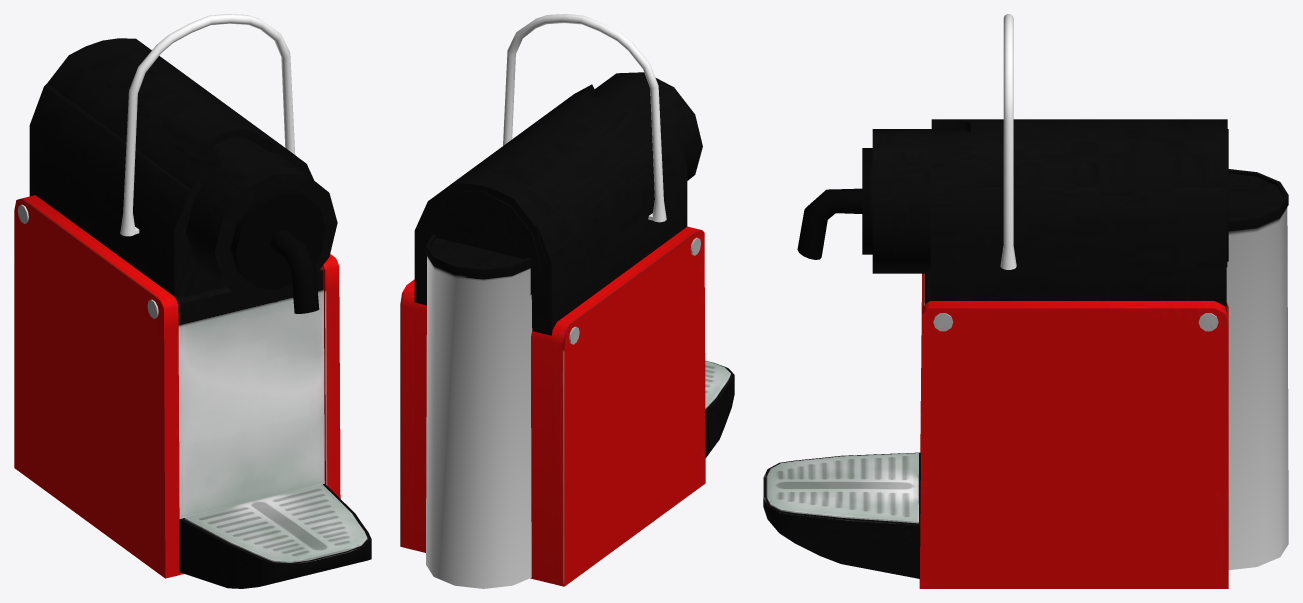
Rendered from LR_CoffeeMachine.fbx.
The picture shows the model from 3 angles, left to right: view 1: azimuth 30°, elevation 25°; view 2: azimuth 150°, elevation 25°; view 3: azimuth 270°, elevation 25°; orthographic projection. The views are drawn at different scales.
Visible parts, largest first — view 1: CoffeeMachine; view 2: CoffeeMachine; view 3: CoffeeMachine.
Part boxes in pixels (x1,y1,x2,y2): CoffeeMachine: (14, 14, 371, 588); CoffeeMachine: (400, 14, 734, 588); CoffeeMachine: (763, 14, 1288, 588).
Size of the model in its own units: 0.1073 by 0.2925 by 0.2675.
